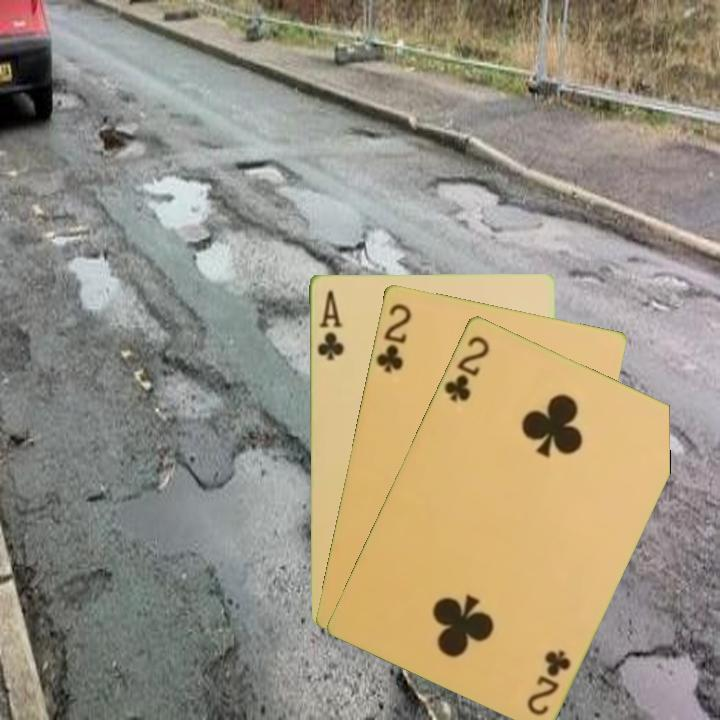2c: (440, 331, 492, 405), (523, 646, 574, 718), (372, 299, 414, 376)
Ac: (314, 286, 347, 363)
